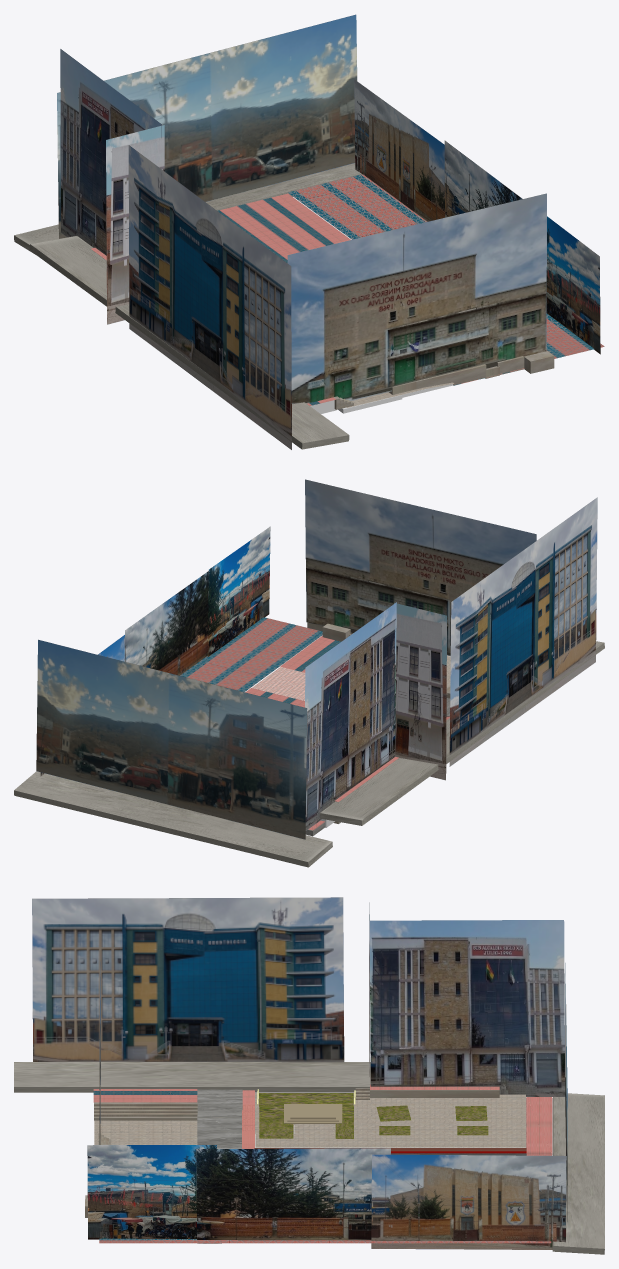
The model's file is piso.glb.
The picture shows the model from 3 angles, top to bottom: view 1: azimuth 30°, elevation 25°; view 2: azimuth 150°, elevation 25°; view 3: azimuth 270°, elevation 25°; orthographic projection. The views are drawn at different scales.
Parts seen in each view (by area): view 1: Plane, Plane.057, Plane.041, Plane.047, Plane.042, Cube.004, Plane.044, Plane.058, Plane.050, Plane.017, Plane.043, Cube.019 (+4 smaller); view 2: Plane.057, Plane.041, Plane, Plane.047, Cube.019, Plane.058, Plane.043, Plane.044, Cube.004, Plane.053, Plane.054, Plane.020 (+2 smaller); view 3: Plane.041, Plane.047, Plane.042, Plane.043, Cube.004, Plane.044, Cube.019, Cube.011, Cube.015, Plane.037, Plane.049, Plane.059 (+23 smaller).
Boxes of the visible parts, x1,y1,x2,y2 form: Plane: (287, 193, 546, 404); Plane.057: (57, 14, 357, 238); Plane.041: (128, 145, 291, 449); Plane.047: (60, 49, 161, 255); Plane.042: (354, 79, 444, 221); Cube.004: (29, 236, 349, 449); Plane.044: (546, 216, 600, 354); Plane.058: (106, 125, 164, 324); Plane.050: (288, 174, 414, 231); Plane.017: (217, 193, 340, 249); Plane.043: (444, 140, 522, 217); Cube.019: (14, 163, 361, 254); Plane.057: (36, 639, 307, 839); Plane.041: (449, 497, 597, 766); Plane: (305, 479, 536, 656); Plane.047: (305, 602, 396, 830); Cube.019: (14, 771, 332, 867); Plane.058: (394, 602, 446, 780); Plane.043: (124, 571, 208, 675); Plane.044: (207, 526, 270, 656); Cube.004: (319, 641, 604, 825); Plane.053: (190, 634, 301, 684); Plane.054: (240, 617, 322, 649); Plane.020: (252, 667, 305, 700); Plane.041: (32, 897, 344, 1062); Plane.047: (369, 920, 565, 1096); Plane.042: (371, 1154, 566, 1249); Plane.043: (196, 1148, 390, 1243); Cube.004: (14, 1062, 370, 1092); Plane.044: (87, 1145, 216, 1239); Cube.019: (552, 1093, 604, 1254); Cube.011: (94, 1102, 197, 1120); Cube.015: (197, 1103, 242, 1143); Plane.037: (526, 1097, 552, 1154); Plane.049: (93, 1089, 197, 1102); Plane.059: (259, 1093, 353, 1106).
Size of the model in its own units: 61.38 by 32.89 by 91.15.
91 materials, 81 textured.
